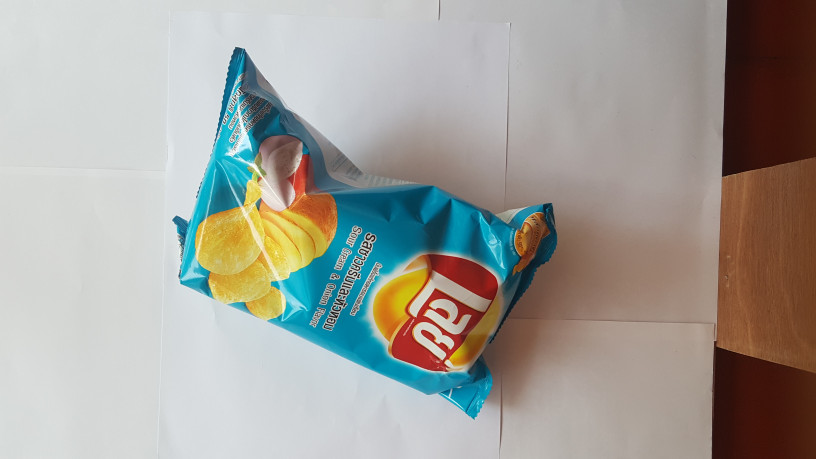lays-onion: (160, 35, 561, 432)
